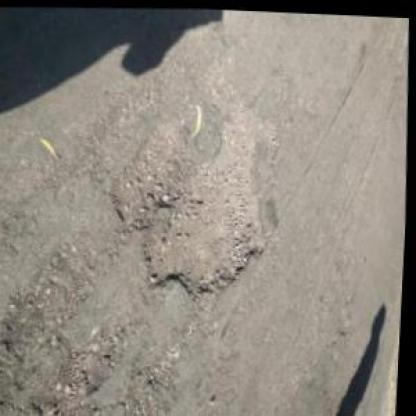pothole: (101, 78, 287, 302)
